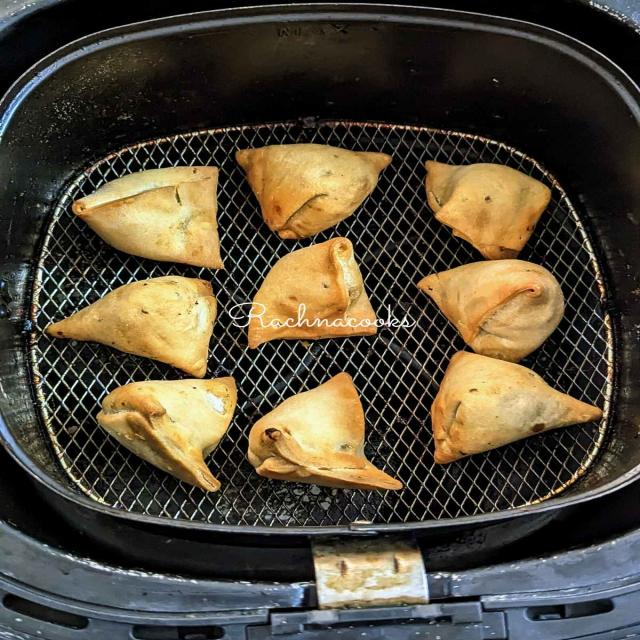SAMOSA: (428, 346, 610, 470), (243, 370, 408, 494), (38, 275, 218, 379), (91, 374, 242, 492), (239, 233, 385, 354), (229, 142, 398, 245), (413, 256, 569, 362), (71, 164, 222, 270), (420, 154, 558, 261)
